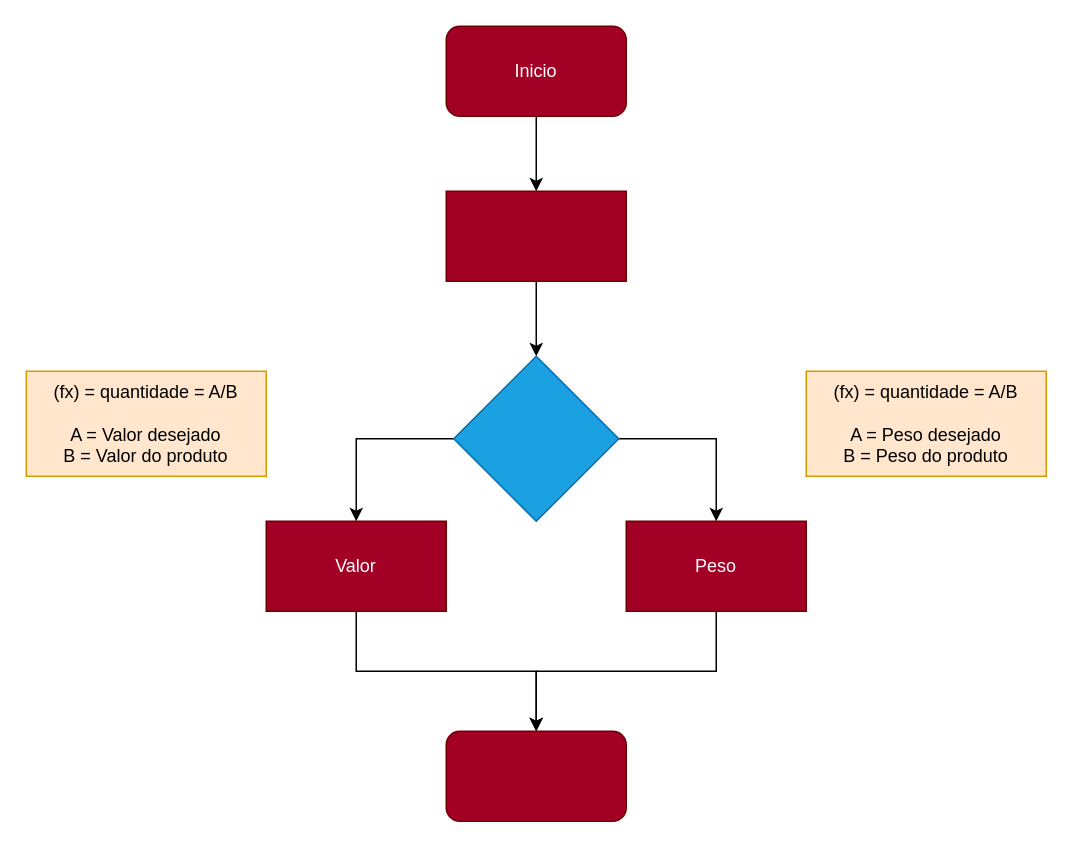
Some shapes in this 1073 by 848 pixel diagram are drawn without their labels. Each missing label, with the box of its shape:
Calcular granel: (445, 190, 626, 281)
Fim: (445, 730, 626, 821)
Valor ou Peso?: (452, 355, 619, 521)
